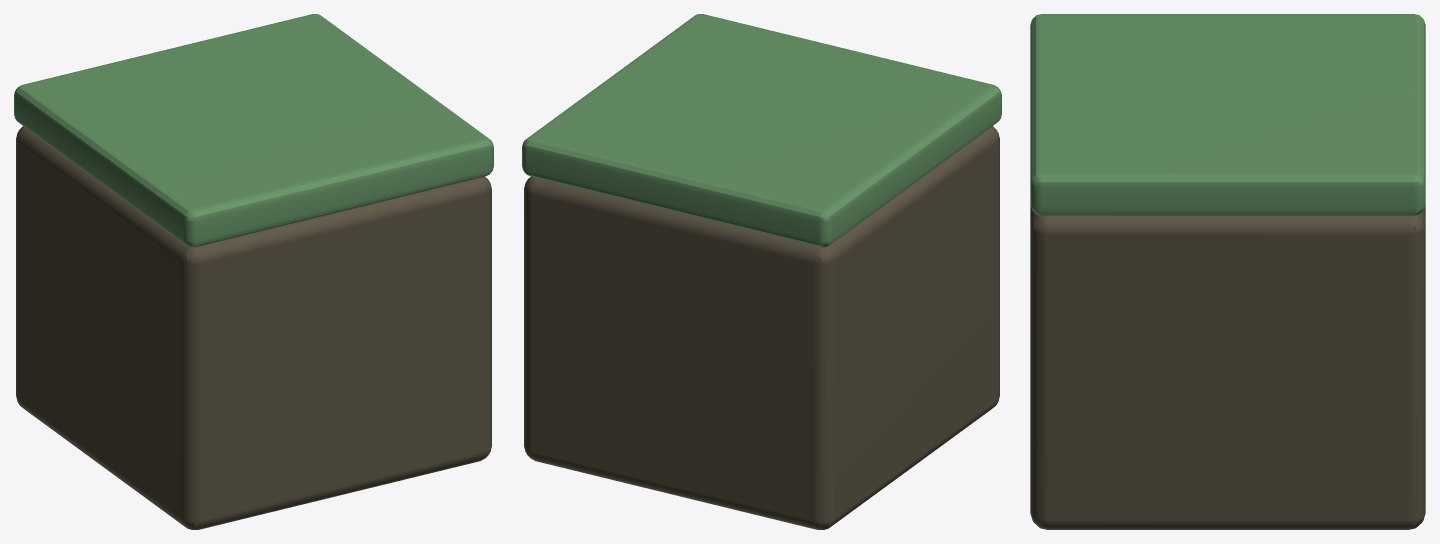
The model's file is Ground_001.fbx.
The picture shows the model from 3 angles, left to right: view 1: azimuth 30°, elevation 25°; view 2: azimuth 150°, elevation 25°; view 3: azimuth 270°, elevation 25°; orthographic projection. The views are drawn at different scales.
Parts seen in each view (by area): view 1: Ground_001; view 2: Ground_001; view 3: Ground_001.
Boxes of the visible parts, x1,y1,x2,y2 form: Ground_001: (14, 14, 493, 529); Ground_001: (522, 14, 1001, 529); Ground_001: (1030, 14, 1425, 529).
Bounding box in the file's own units: 1 × 1 × 1.
